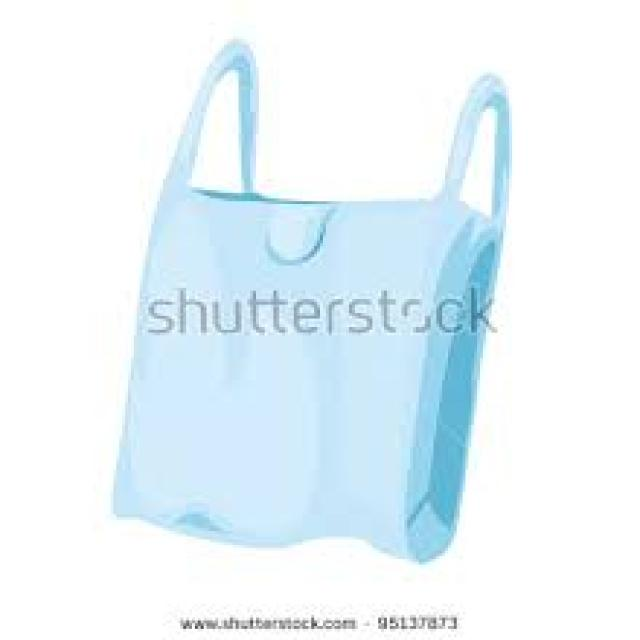plastic: (108, 39, 509, 562)
